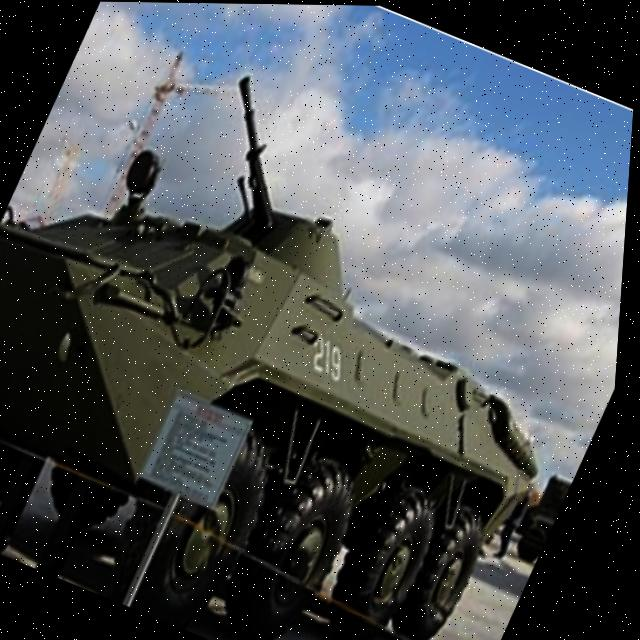MIL_APC: (0, 105, 634, 640)
